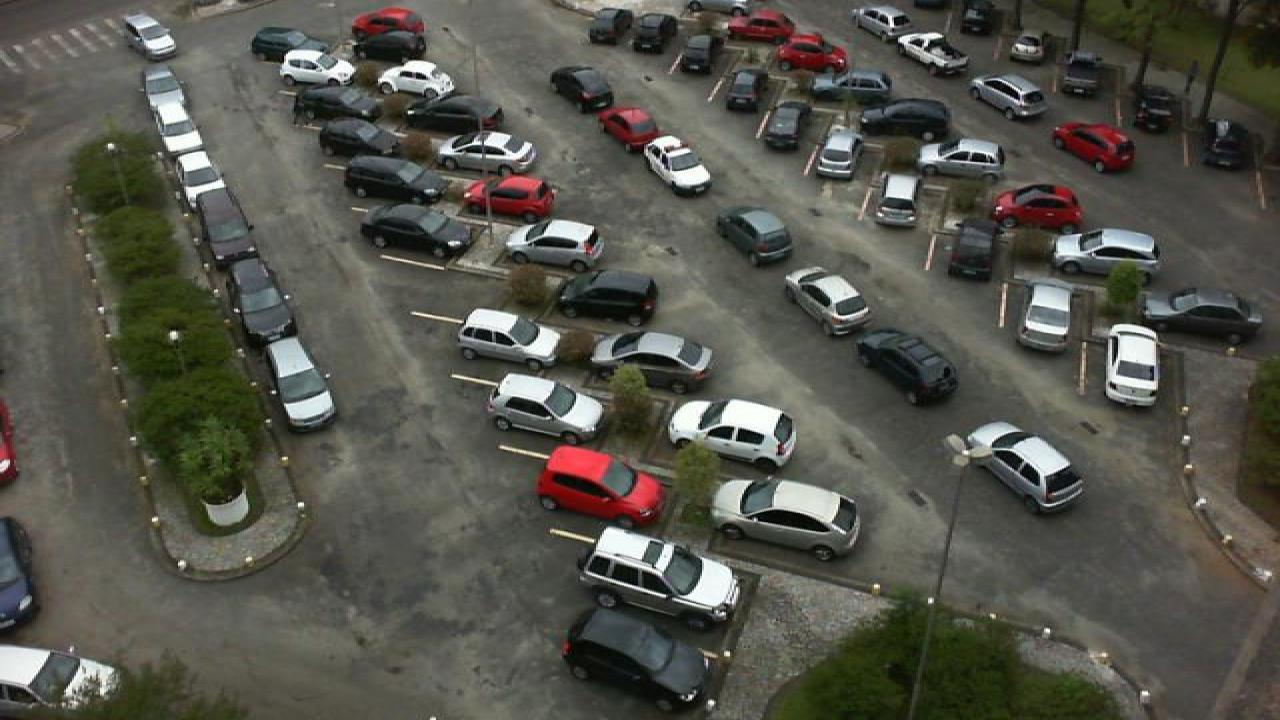Car: (574, 525, 744, 629), (556, 606, 718, 712), (708, 478, 868, 564), (960, 420, 1086, 514), (534, 444, 668, 526), (666, 396, 798, 476), (482, 371, 608, 447), (0, 642, 118, 720), (856, 327, 962, 408), (588, 331, 718, 395), (1136, 286, 1268, 345), (456, 307, 568, 370), (264, 336, 338, 428), (782, 266, 874, 338), (356, 201, 466, 260), (556, 268, 660, 326), (1050, 226, 1164, 278), (228, 257, 298, 338), (1102, 323, 1166, 408), (504, 218, 608, 270), (714, 205, 796, 269), (992, 182, 1090, 234), (340, 154, 442, 203), (640, 134, 716, 198), (436, 130, 540, 176), (1050, 120, 1138, 174), (0, 516, 40, 634), (192, 185, 258, 256), (464, 174, 558, 223), (138, 64, 202, 135), (318, 116, 412, 163), (408, 91, 506, 135), (860, 96, 956, 140), (160, 118, 228, 180), (1016, 282, 1076, 352), (914, 138, 1008, 182), (968, 72, 1052, 120), (942, 218, 1004, 282), (290, 84, 384, 126), (802, 69, 898, 108), (374, 60, 460, 102), (546, 65, 618, 114), (894, 30, 970, 76), (598, 105, 668, 154), (278, 47, 358, 89), (870, 174, 926, 229), (120, 11, 180, 62), (248, 26, 328, 64), (810, 125, 862, 183), (848, 3, 918, 44), (760, 98, 814, 151), (774, 36, 850, 73), (354, 30, 432, 64), (1204, 117, 1254, 170), (724, 9, 800, 41), (348, 7, 428, 37), (1130, 84, 1178, 134), (1058, 46, 1102, 95), (720, 68, 764, 112), (674, 31, 716, 76), (1006, 27, 1048, 69), (956, 0, 1000, 38), (586, 8, 628, 46), (630, 13, 666, 56)
